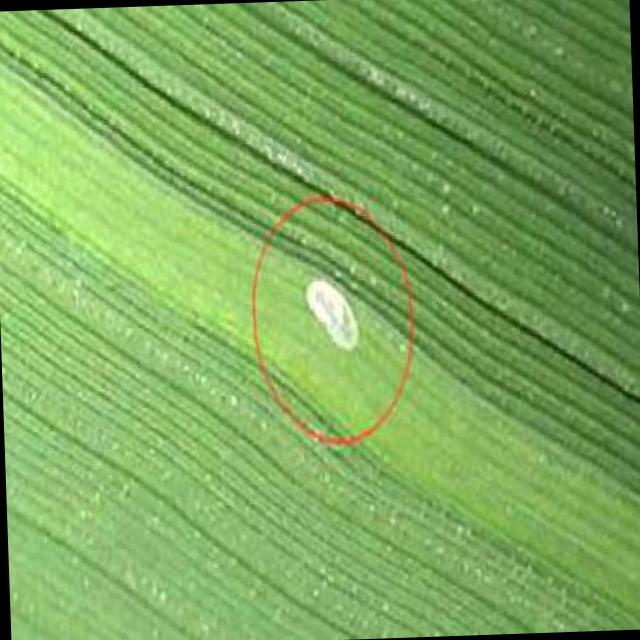leaf-folder: (290, 262, 370, 376)
